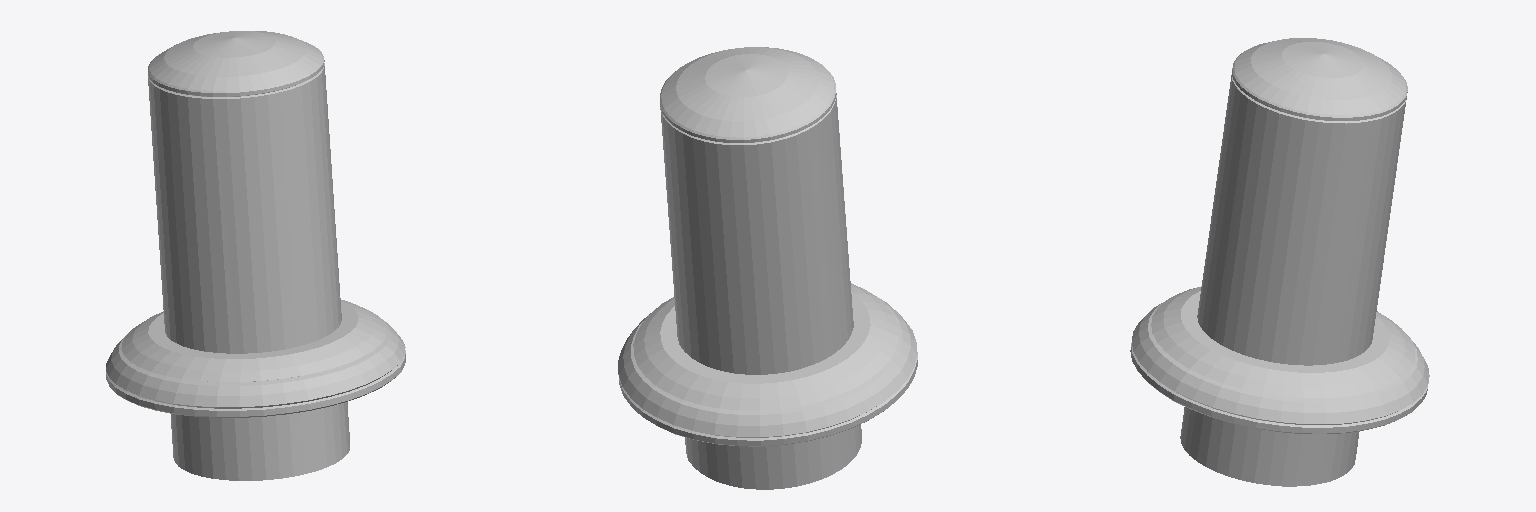
Rendered from MTB_Headset-sharedassets2MTB.assets-17018.obj.
3 renders of one model, left to right at view 1: azimuth 30°, elevation 25°; view 2: azimuth 150°, elevation 25°; view 3: azimuth 270°, elevation 25°, orthographic.
Parts seen in each view (by area): view 1: MTB_Headset_0.002; view 2: MTB_Headset_0.002; view 3: MTB_Headset_0.002.
Boxes of the visible parts, box(x1,y1,x2,y2) form: MTB_Headset_0.002: box(106, 31, 405, 480); MTB_Headset_0.002: box(618, 47, 917, 489); MTB_Headset_0.002: box(1130, 38, 1429, 486).
Bounding box in the file's own units: 0.0429 × 0.0637 × 0.0428.